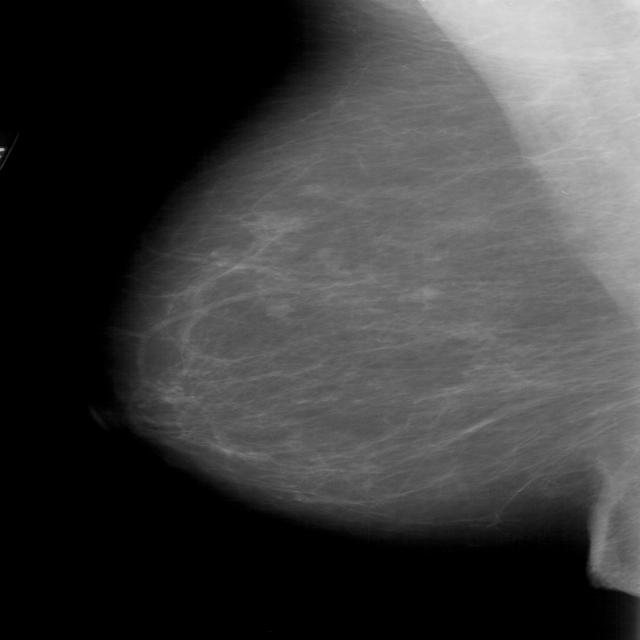normal: (102, 0, 640, 526)
